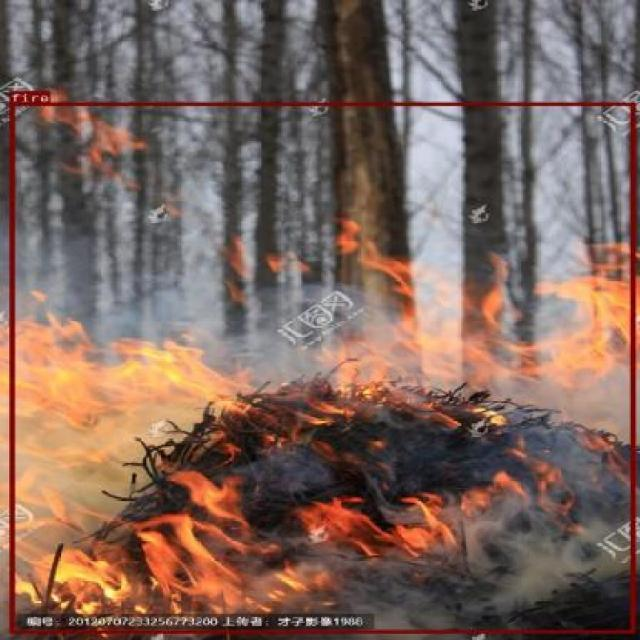Fire: (9, 102, 634, 632)
